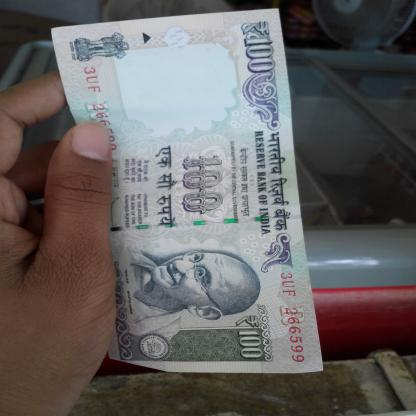Old100Front: (51, 6, 325, 375)
